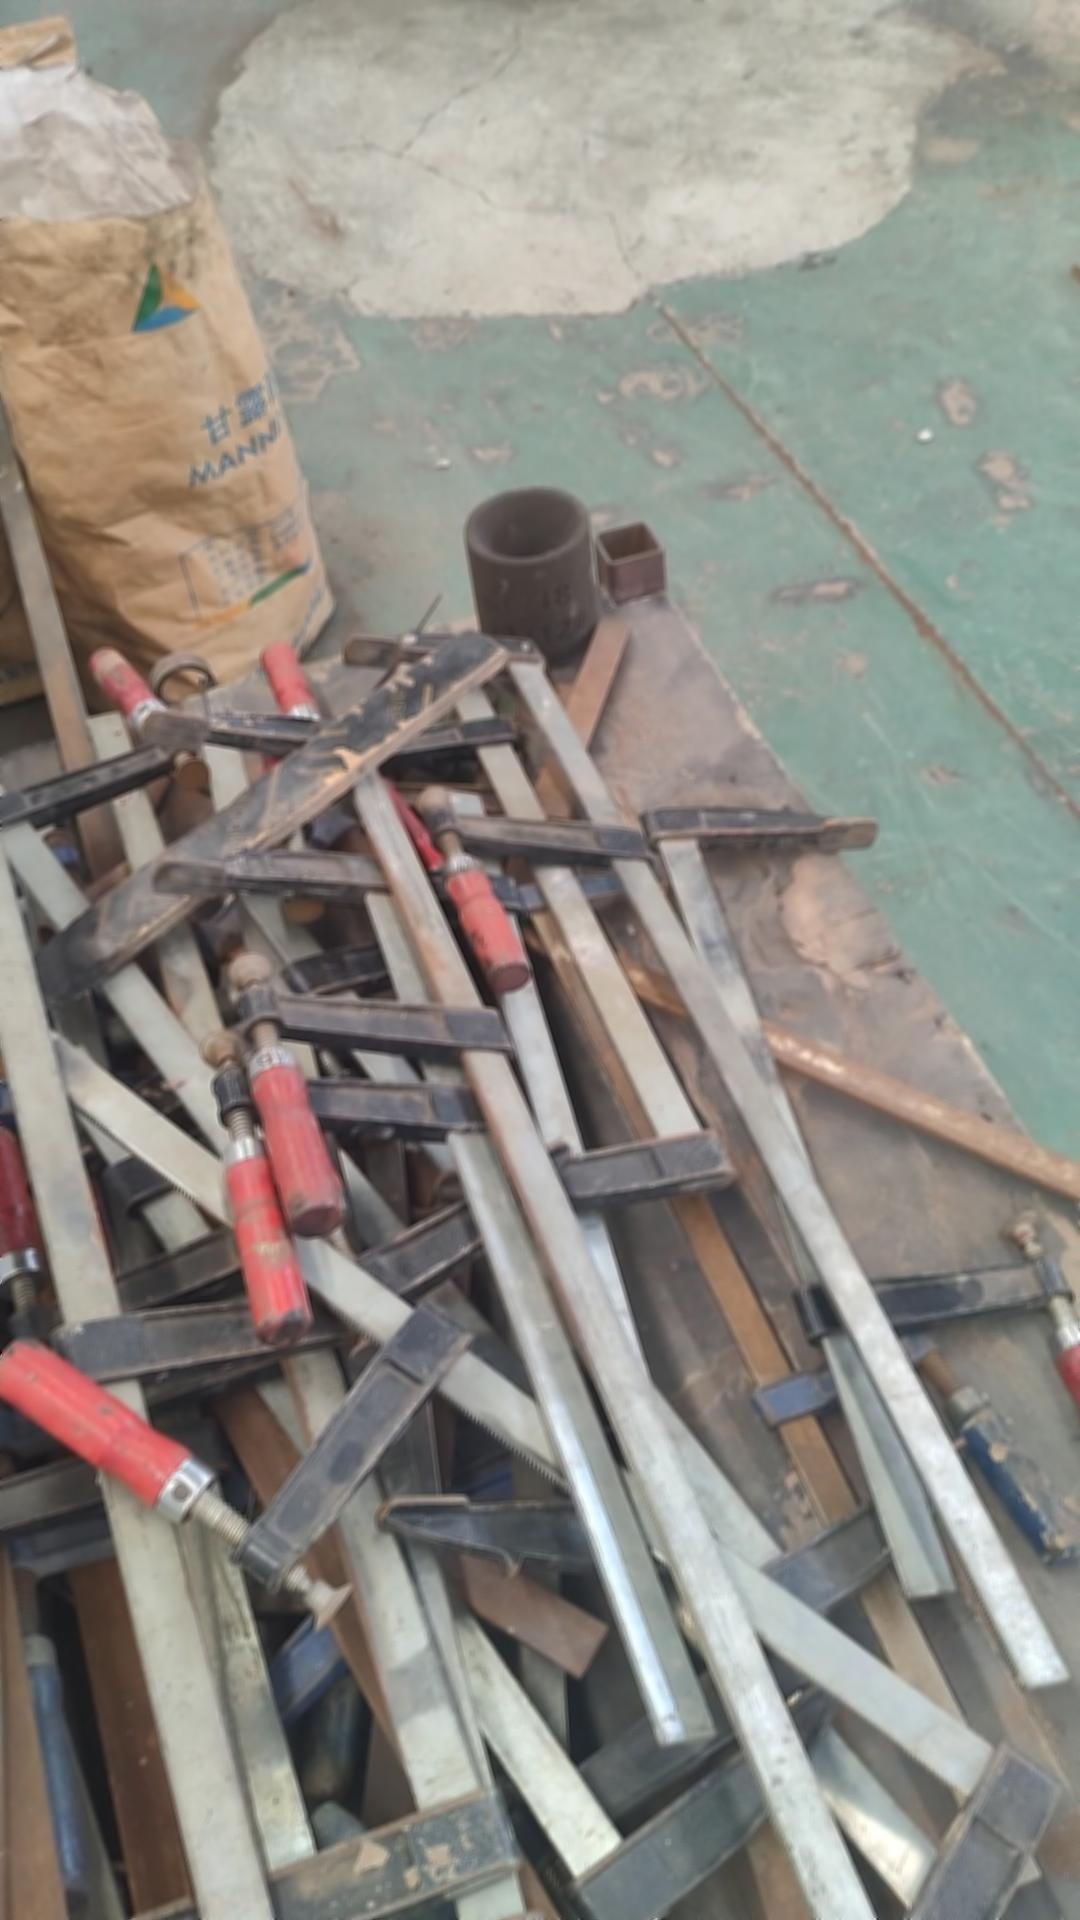pouring hole: (465, 487, 587, 566)
